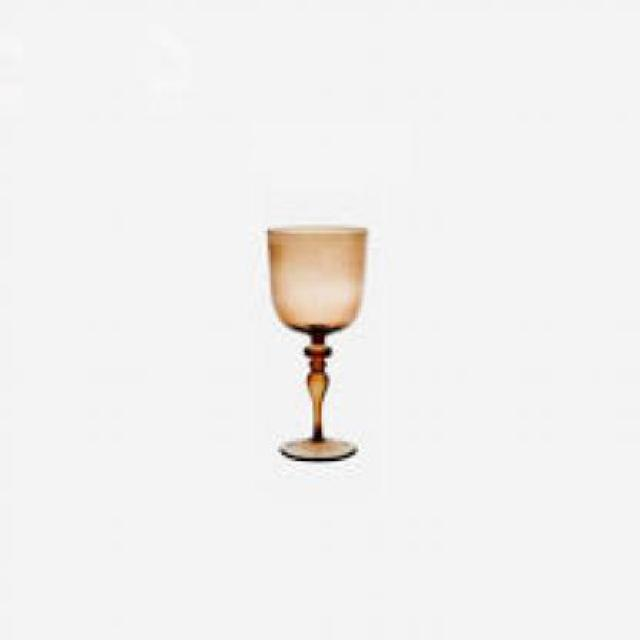kaca: (264, 222, 364, 458)
